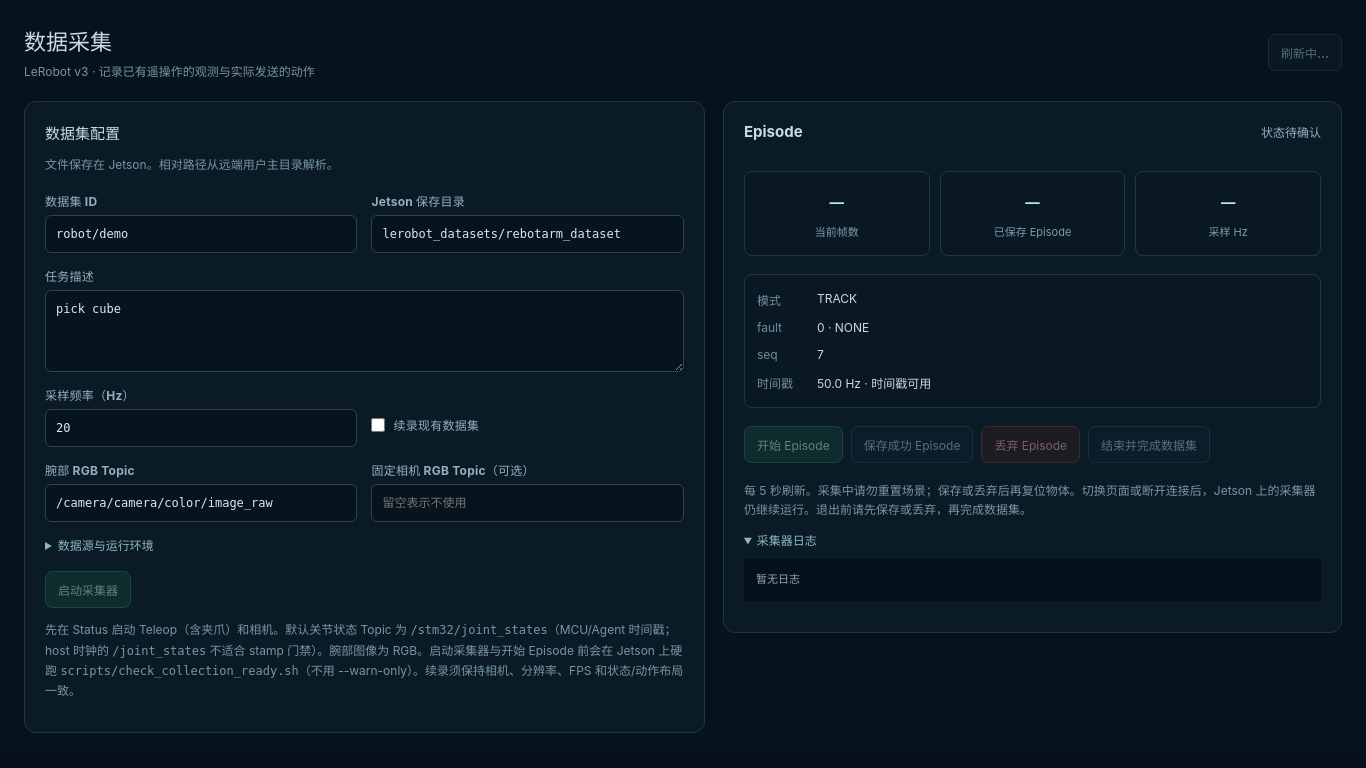
DataCollectionPage › keeps config editable while the initial status request is pending
Type " carefully" into the text box labelled "任务描述" at [364, 331], box [45, 290, 684, 372]
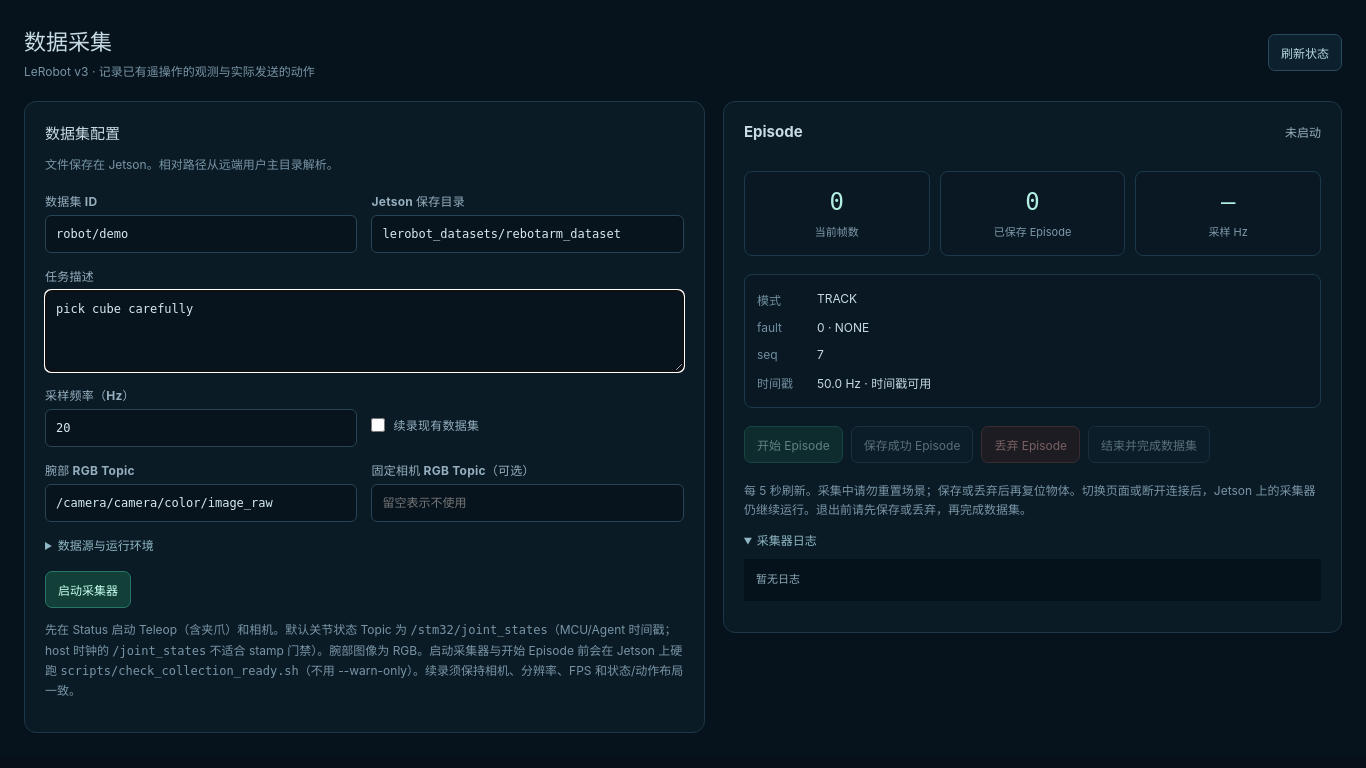
Now the text box labelled "任务描述" holds "pick cube carefully", box [45, 290, 684, 372]
